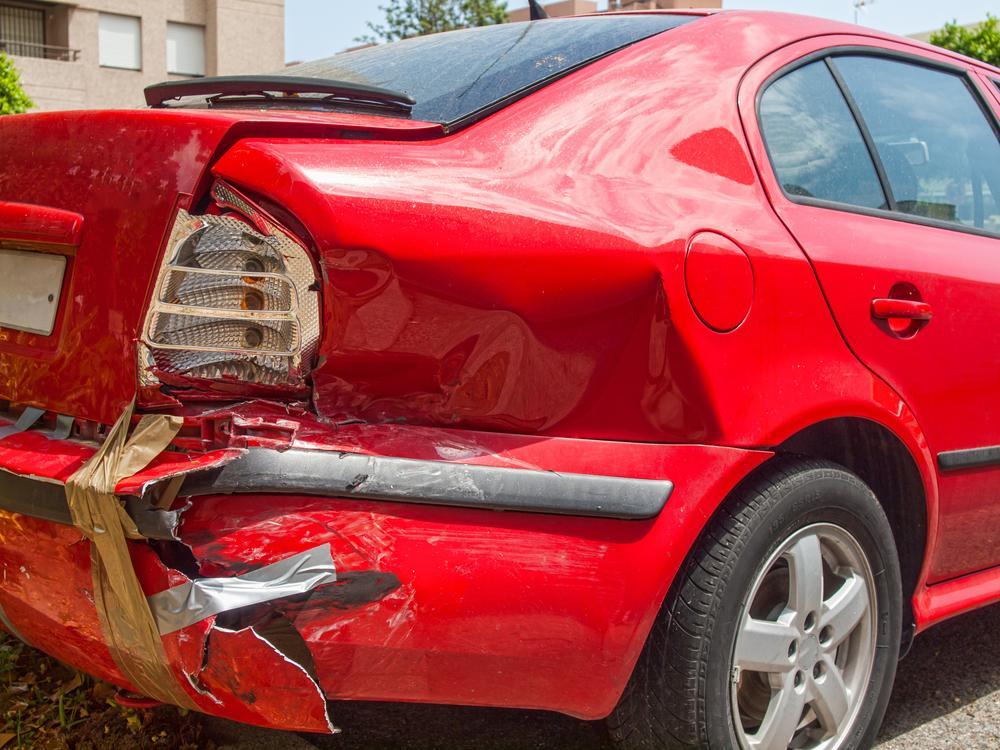crack: (144, 539, 326, 708)
dent: (250, 241, 724, 461)
lamp broken: (146, 184, 317, 396)
